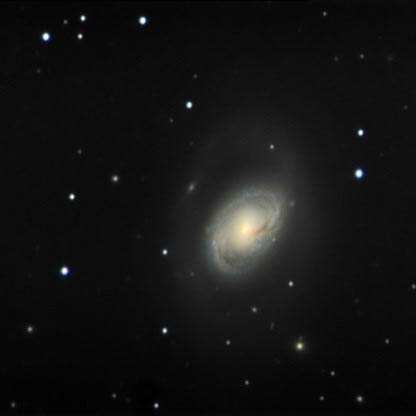Messier 96: (160, 119, 322, 348)
